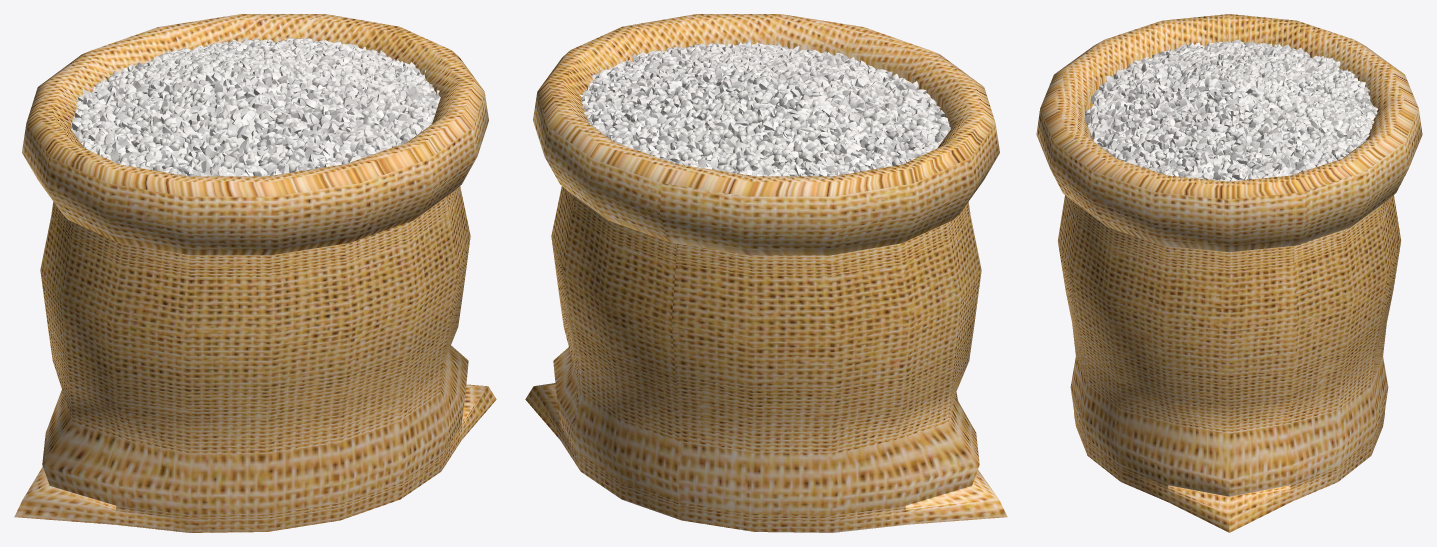
The model's file is RiceSack1_LOD.fbx.
The picture shows the model from 3 angles, left to right: view 1: azimuth 30°, elevation 25°; view 2: azimuth 150°, elevation 25°; view 3: azimuth 270°, elevation 25°; orthographic projection. The views are drawn at different scales.
Visible parts, largest first — view 1: RiceSack1_LOD0; view 2: RiceSack1_LOD0; view 3: RiceSack1_LOD0.
Boxes of the visible parts, bbox=[...] form: RiceSack1_LOD0: bbox=[14, 14, 496, 532]; RiceSack1_LOD0: bbox=[525, 14, 1007, 532]; RiceSack1_LOD0: bbox=[1036, 14, 1422, 532].
Size of what is drawn, in the model's own units: 286 by 220 by 219.
Materials: 2 (2 with a texture image).
